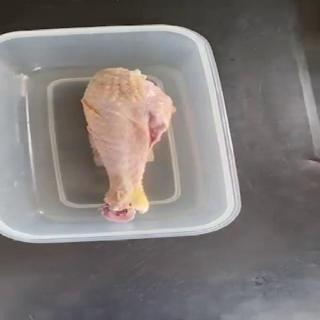Ayam: (81, 67, 178, 223)
